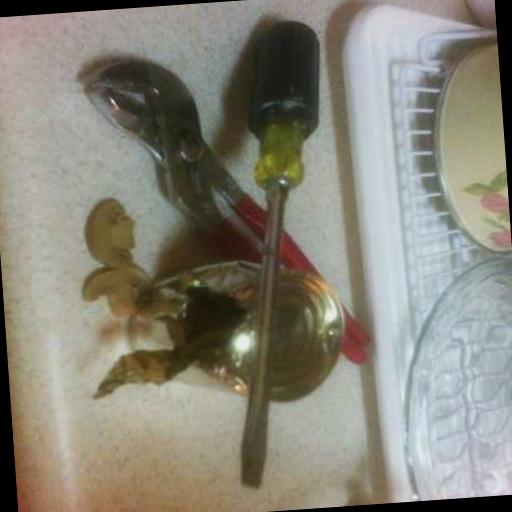screwdriver: (208, 19, 350, 489)
